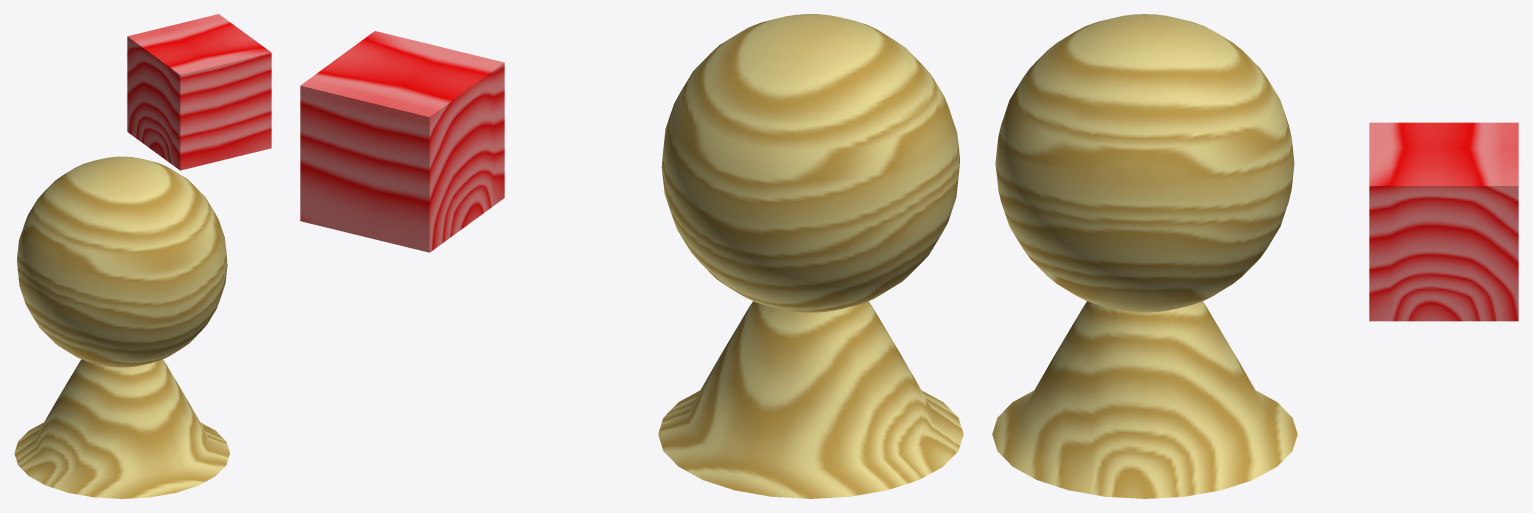
The model's file is hierarchy.FBX.
The picture shows the model from 3 angles, left to right: view 1: azimuth 30°, elevation 25°; view 2: azimuth 150°, elevation 25°; view 3: azimuth 270°, elevation 25°; orthographic projection. The views are drawn at different scales.
Visible parts, largest first — view 1: Cone001, Box001; view 2: Cone001, Box001; view 3: Cone001, Box001.
Boxes of the visible parts, x1=… form: Cone001: x1=14, y1=156, x2=229, y2=498; Box001: x1=127, y1=14, x2=271, y2=170; Cone001: x1=658, y1=14, x2=963, y2=498; Box001: x1=300, y1=31, x2=504, y2=252; Cone001: x1=992, y1=14, x2=1297, y2=498; Box001: x1=1369, y1=122, x2=1518, y2=321.
Size of the model in its own units: 3.52 by 3 by 3.52.
Materials: 2 (2 with a texture image).
